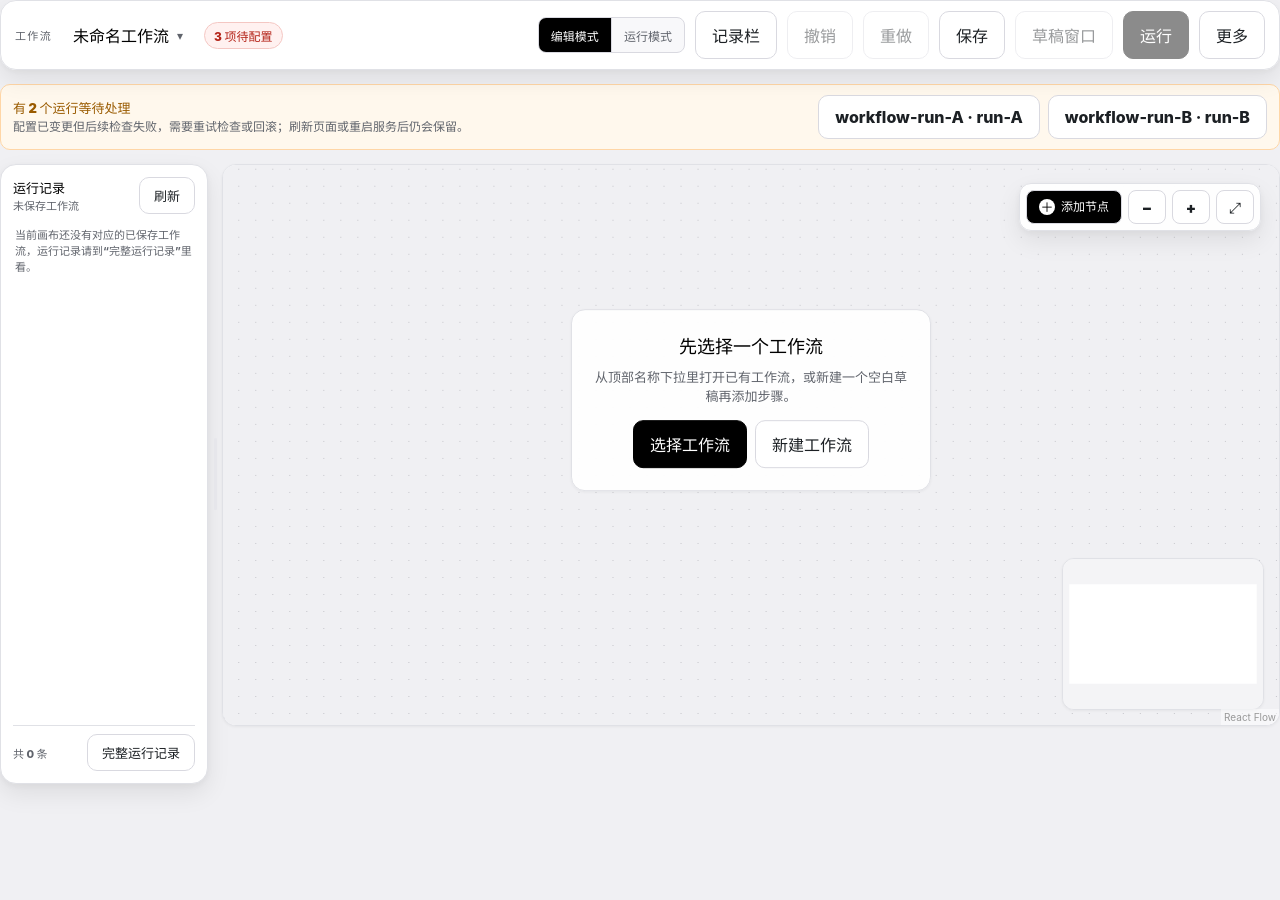
Test: WorkflowEditor 恢复运行隔离 › 拒绝与入口运行 ID 不一致的恢复详情
Click the button "workflow-run-A · run-A": [929, 117] box [818,95,1040,139]
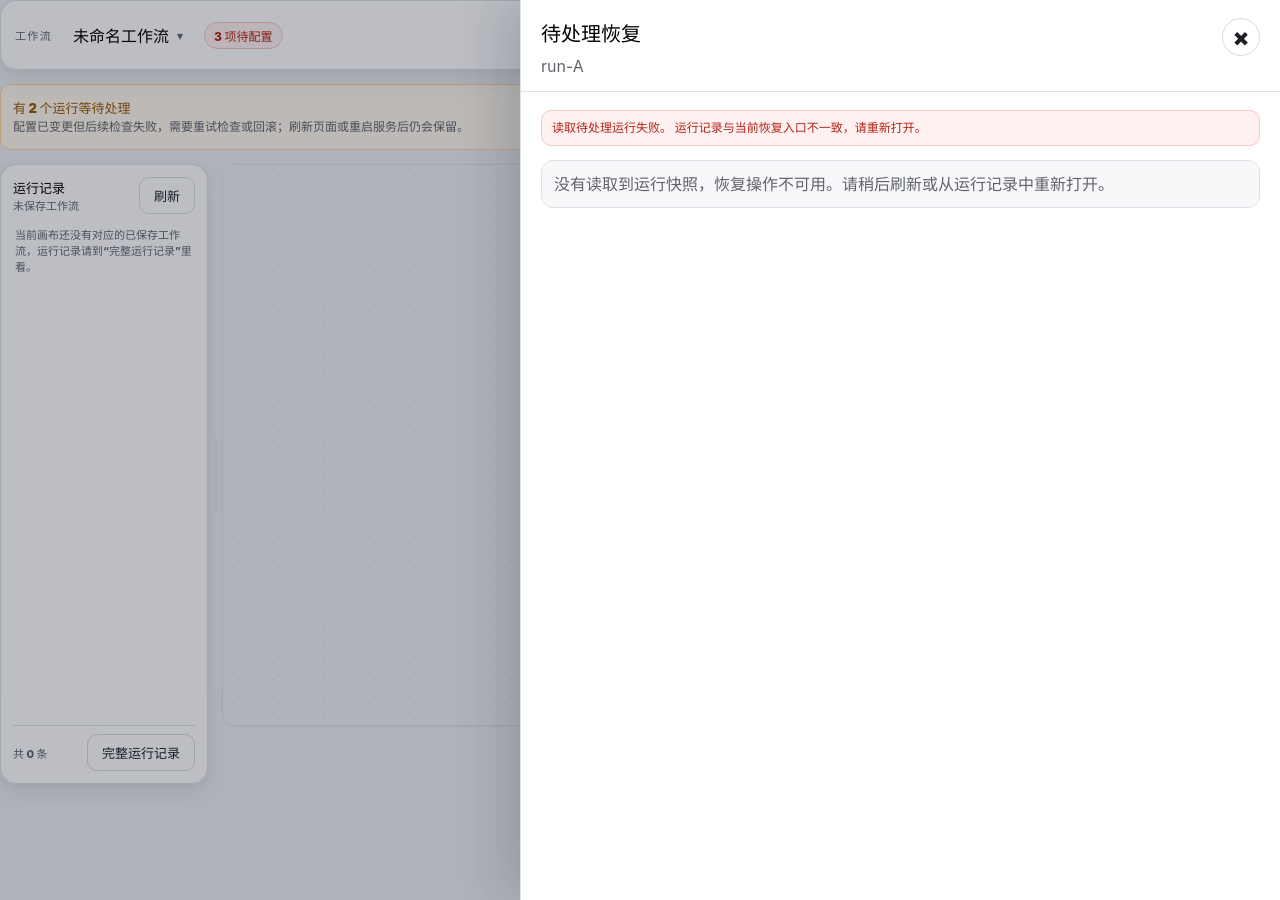
Now the dialog with class "workflowRecoveryDrawer" shows "运行记录与当前恢复入口不一致", box [552,120,927,135]
